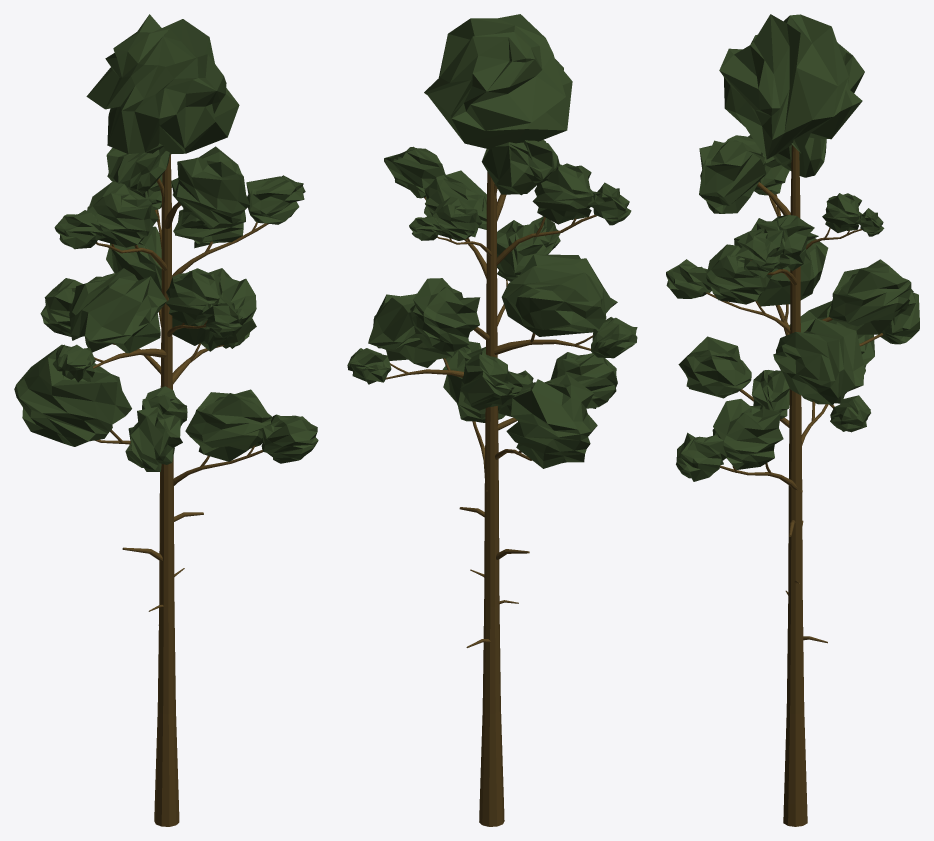
Rendered from PineTree.fbx.
3 renders of one model, left to right at view 1: azimuth 30°, elevation 25°; view 2: azimuth 150°, elevation 25°; view 3: azimuth 270°, elevation 25°, orthographic.
Visible parts, largest first — view 1: PineTree; view 2: PineTree; view 3: PineTree.
Part boxes in pixels (box(x1,y1,x2,y2)): PineTree: box(14, 14, 318, 826); PineTree: box(347, 14, 637, 826); PineTree: box(666, 14, 919, 826).
Size of the model in its own units: 7.04 by 21.6 by 6.22.
